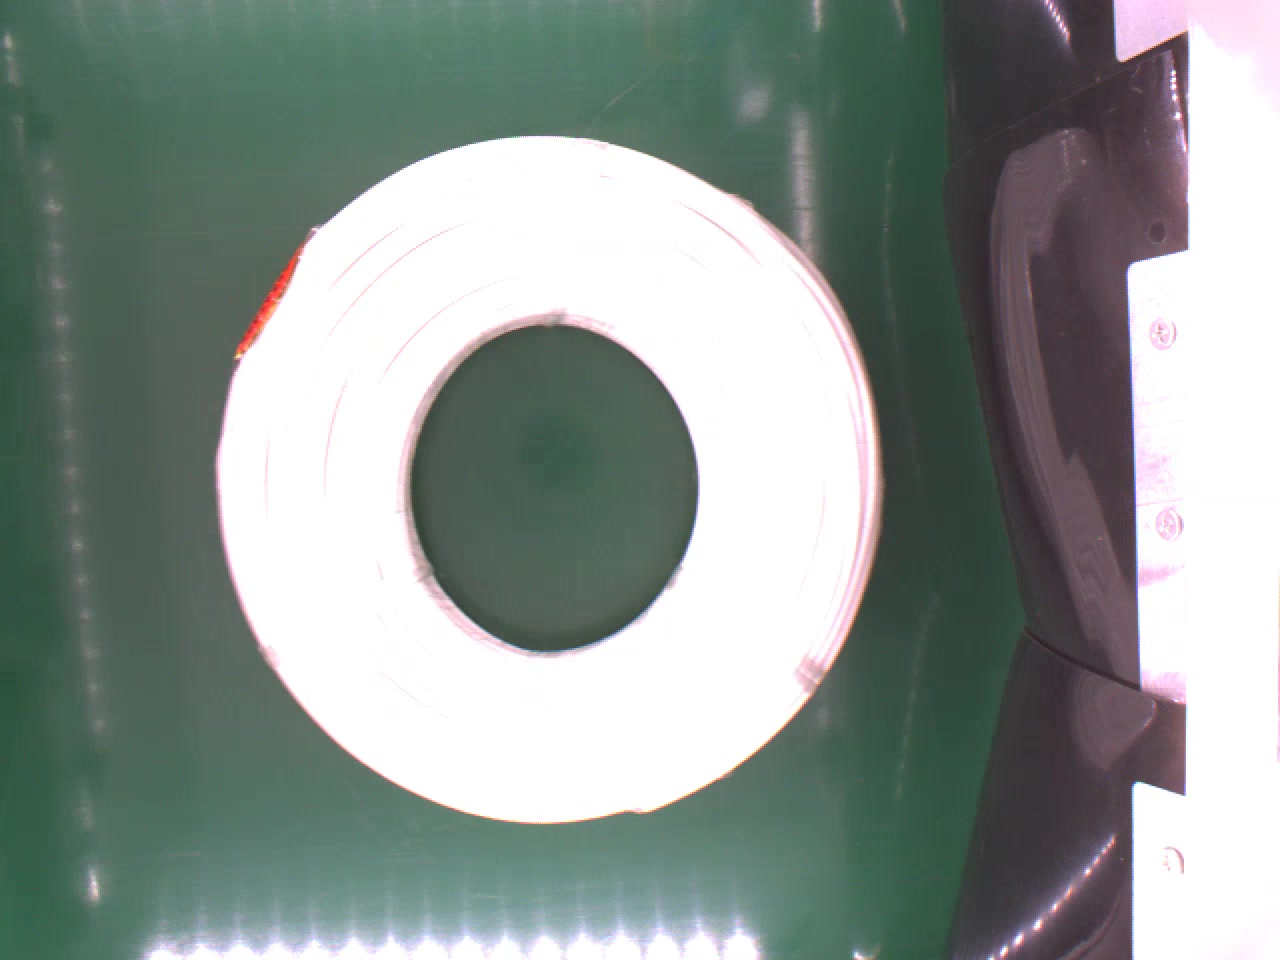white: (209, 124, 909, 827)
